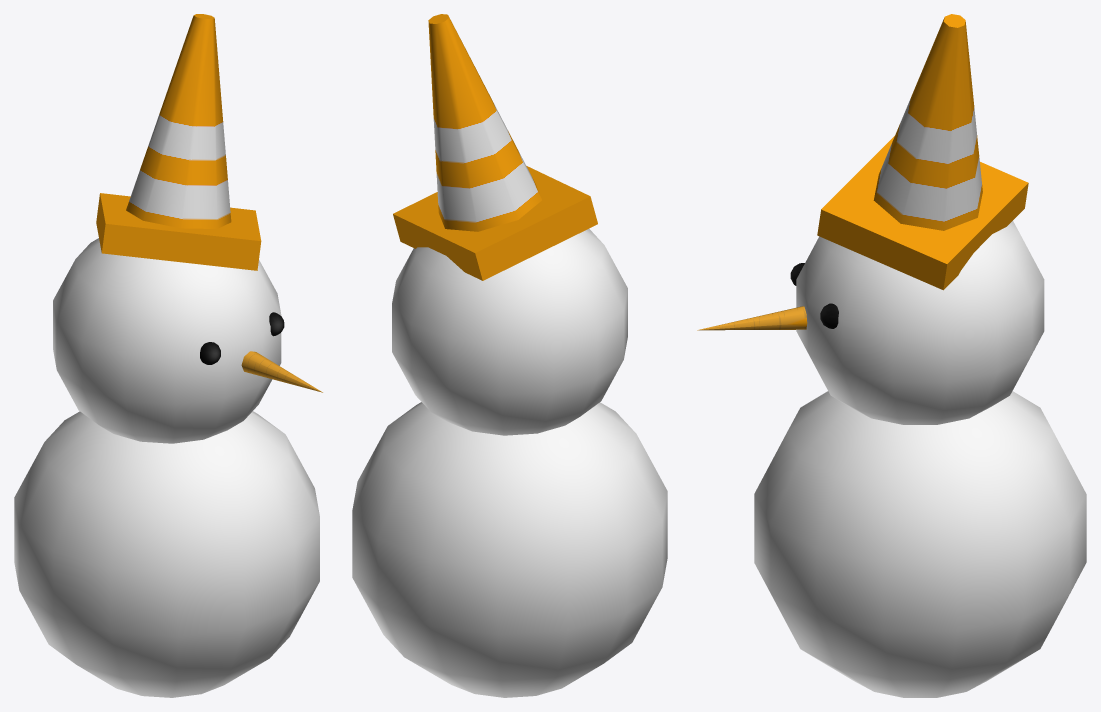
Rendered from Snow man.fbx.
The picture shows the model from 3 angles, left to right: view 1: azimuth 30°, elevation 25°; view 2: azimuth 150°, elevation 25°; view 3: azimuth 270°, elevation 25°; orthographic projection. The views are drawn at different scales.
Visible parts, largest first — view 1: Snowman; view 2: Snowman; view 3: Snowman.
Part boxes in pixels (left/top/right/bottom): Snowman: left=14, top=14, right=322, bottom=697; Snowman: left=352, top=14, right=667, bottom=697; Snowman: left=697, top=14, right=1086, bottom=697.
Bounding box in the file's own units: 14.71 × 34.67 × 17.71.
